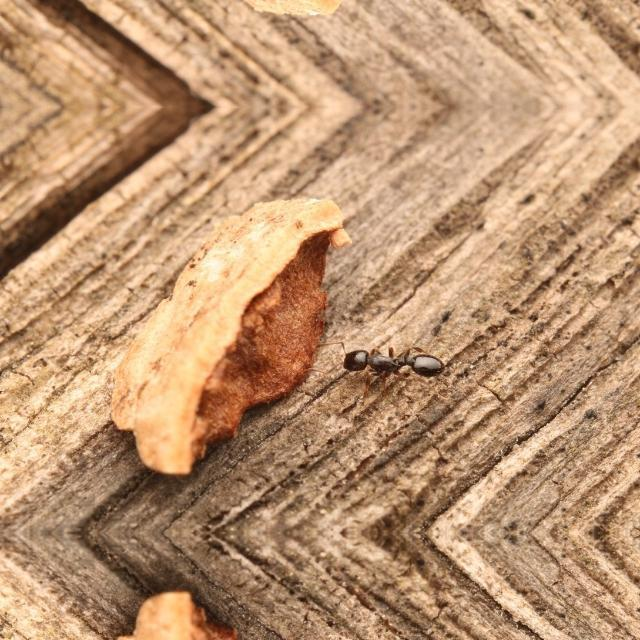Temnothorax: (328, 330, 460, 388)
